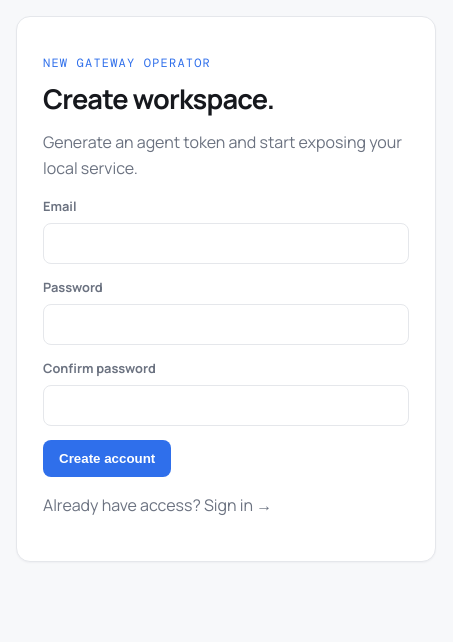
it: RegisterView › shows the error message and does not navigate on a failed registration
Type "a@b.test" into the field labelled "Email" at point(226, 244), box [43,223,409,264]
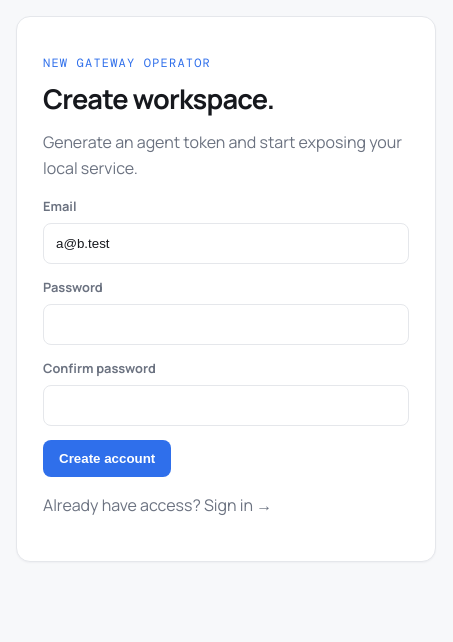
Type "password123" into the password field labelled "Password" at point(226, 325), box [43,304,409,345]
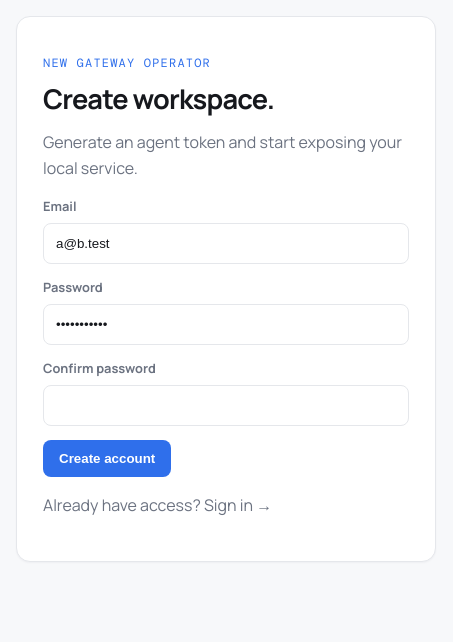
Type "password123" into the password field labelled "Confirm password" at point(226, 406), box [43,385,409,426]
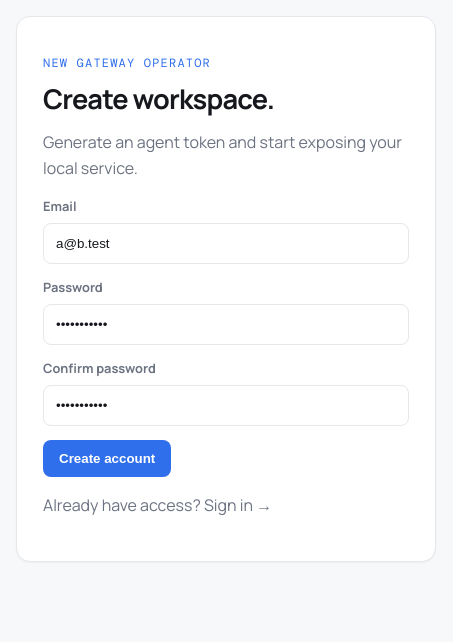
Submit the form, box [43,197,409,477]
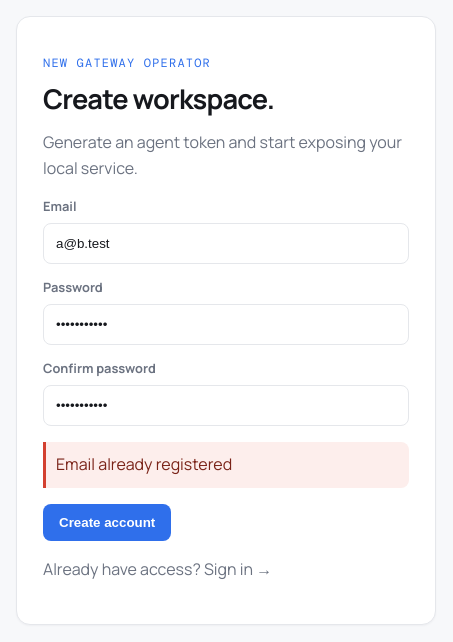
Expected: the text "Email already registered" is shown, [43,442,409,488]
